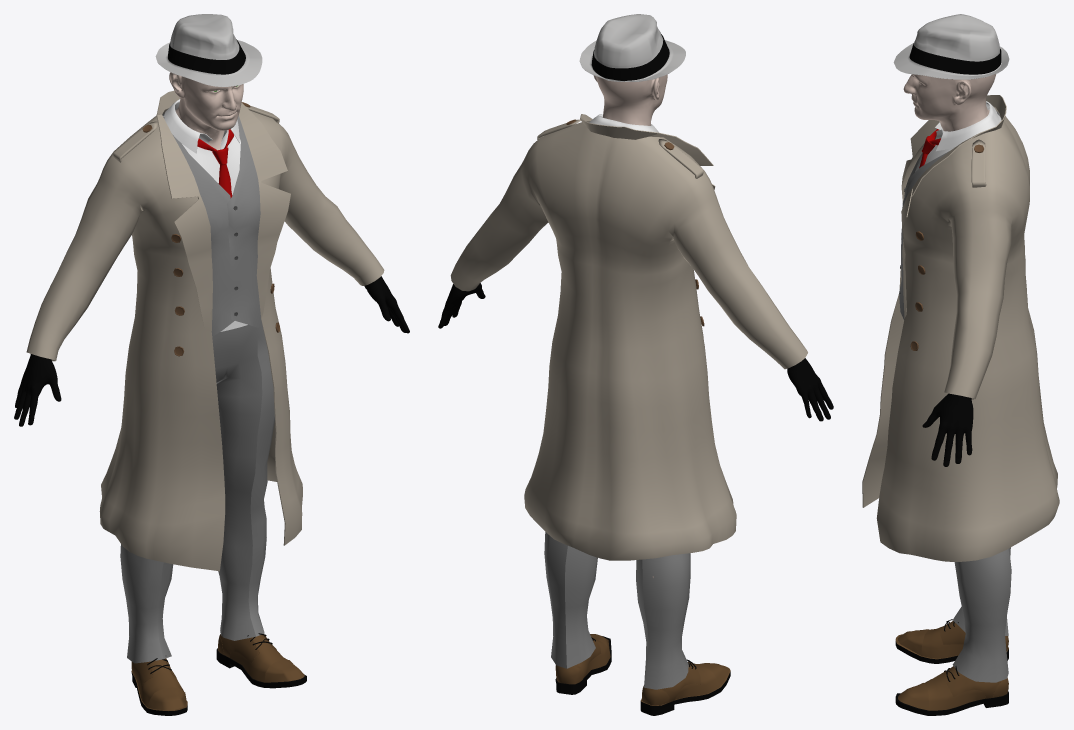
The model's file is HeroicMeshExport3.fbx.
3 renders of one model, left to right at view 1: azimuth 30°, elevation 25°; view 2: azimuth 150°, elevation 25°; view 3: azimuth 270°, elevation 25°, orthographic.
Visible parts, largest first — view 1: polySurface13, polySurface12, pPlane3, pPipe3, pCube1 (×2), wrap_body, wrap_head, polySurface1, polySurface14, pCube14; view 2: polySurface13, polySurface12, pPipe3, pCube1 (×2), wrap_head, wrap_body, polySurface14; view 3: polySurface13, polySurface12, pCube1 (×2), pPipe3, wrap_head, wrap_body, polySurface14, polySurface1, pPlane3, polySurface4, group3_pCube2, polySurface5.
Boxes of the visible parts, left/top/right/bottom form: polySurface13: left=26, top=90, right=384, bottom=571; polySurface12: left=120, top=322, right=274, bottom=663; pPlane3: left=162, top=113, right=261, bottom=336; pPipe3: left=155, top=14, right=262, bottom=86; pCube1 (×2): left=131, top=635, right=306, bottom=715; wrap_body: left=14, top=107, right=409, bottom=426; wrap_head: left=169, top=72, right=243, bottom=136; polySurface1: left=163, top=99, right=247, bottom=331; polySurface14: left=168, top=39, right=245, bottom=74; pCube14: left=197, top=129, right=233, bottom=198; polySurface13: left=450, top=114, right=807, bottom=560; polySurface12: left=544, top=532, right=690, bottom=689; pPipe3: left=579, top=14, right=685, bottom=81; pCube1 (×2): left=555, top=634, right=730, bottom=715; wrap_head: left=593, top=74, right=667, bottom=125; wrap_body: left=438, top=283, right=833, bottom=577; polySurface14: left=591, top=34, right=669, bottom=80; polySurface13: left=862, top=95, right=1059, bottom=561; polySurface12: left=952, top=547, right=1011, bottom=682; pCube1 (×2): left=895, top=621, right=1008, bottom=715; pPipe3: left=893, top=14, right=1009, bottom=79; wrap_head: left=903, top=74, right=996, bottom=131; wrap_body: left=922, top=109, right=989, bottom=466; polySurface14: left=909, top=43, right=1001, bottom=74; polySurface1: left=924, top=101, right=1001, bottom=164; pPlane3: left=899, top=111, right=1000, bottom=319; polySurface4: left=946, top=673, right=999, bottom=698; group3_pCube2: left=971, top=139, right=986, bottom=187; polySurface5: left=940, top=623, right=965, bottom=644.
Size of the model in its own units: 109 by 179 by 48.64.
